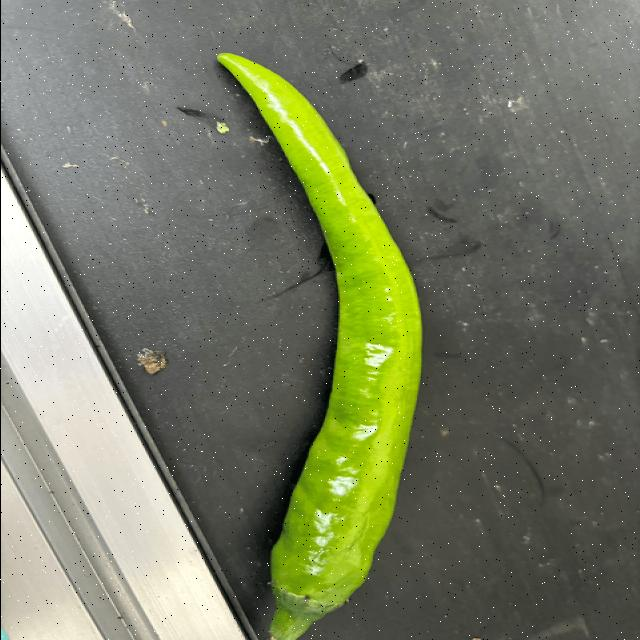chili: (212, 49, 421, 623)
